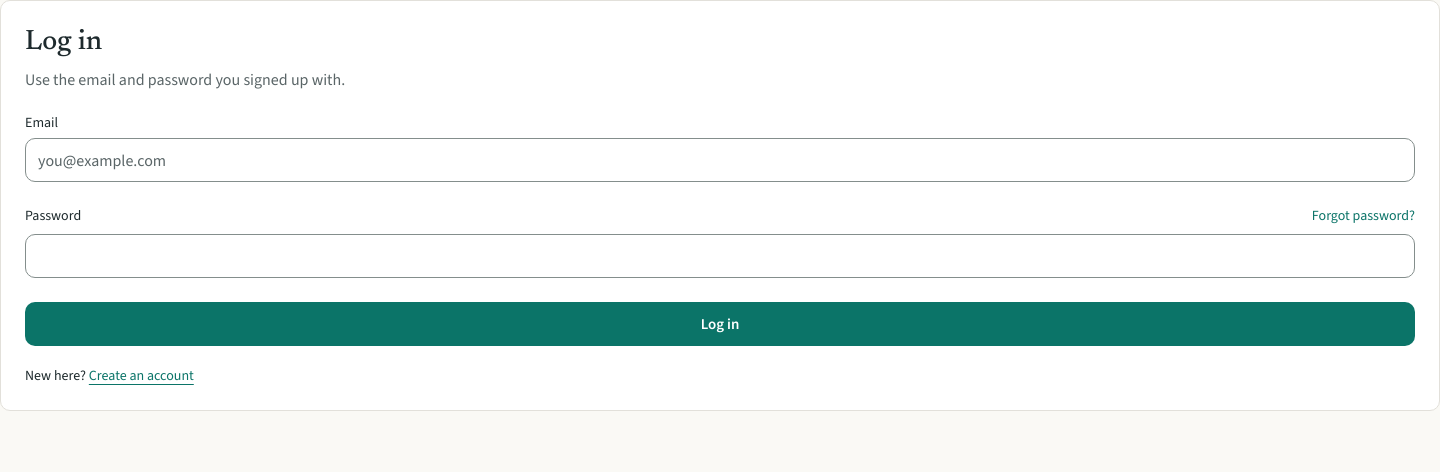
Test case: LoginForm › any other Supabase message passes through
Type "ann@example.com" into the field labelled "Email" at (720, 160), box x1=25 y1=138 x2=1415 y2=182
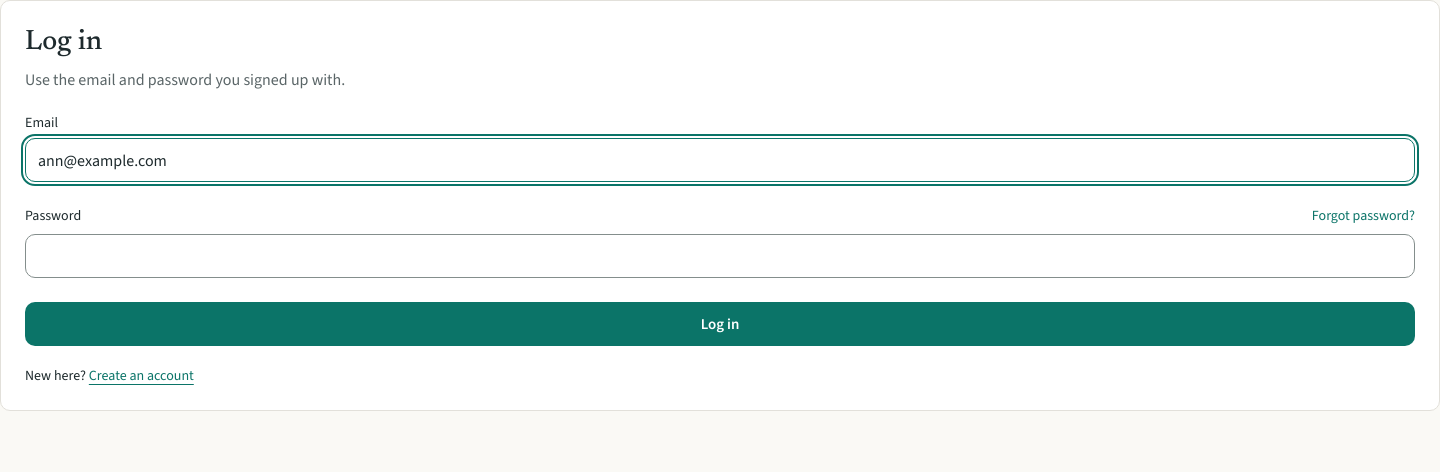
Type "Password123!" into the password field labelled "Password" at (720, 256), box x1=25 y1=234 x2=1415 y2=278
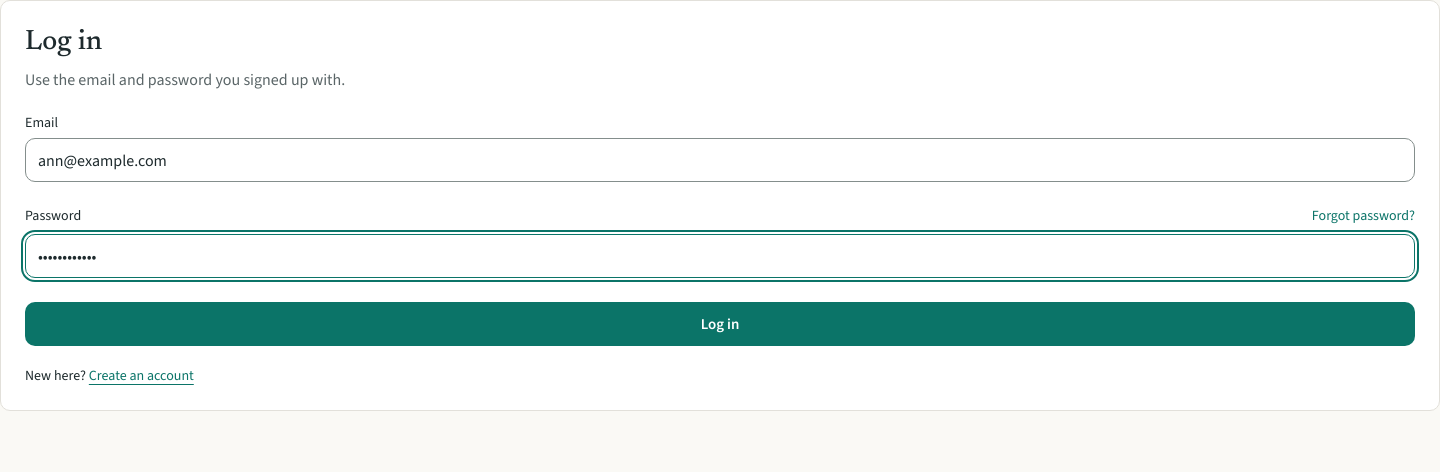
Click the button "Log in" at (720, 324), box x1=25 y1=302 x2=1415 y2=346
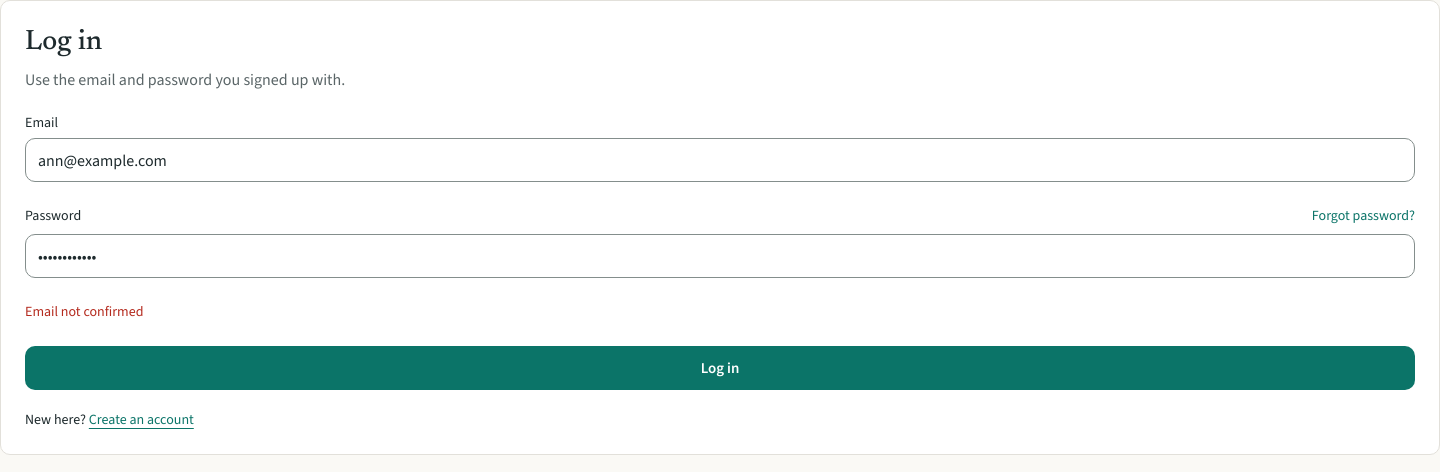
Now the message reads "Email not confirmed", box x1=25 y1=302 x2=144 y2=321
